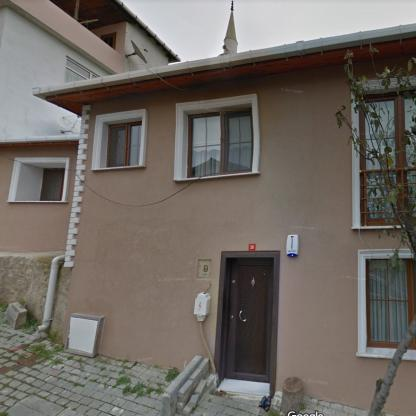door: (225, 262, 271, 380)
window: (190, 108, 251, 178), (368, 261, 410, 343), (106, 124, 142, 167), (64, 57, 98, 83), (40, 168, 64, 200), (101, 36, 115, 48)
